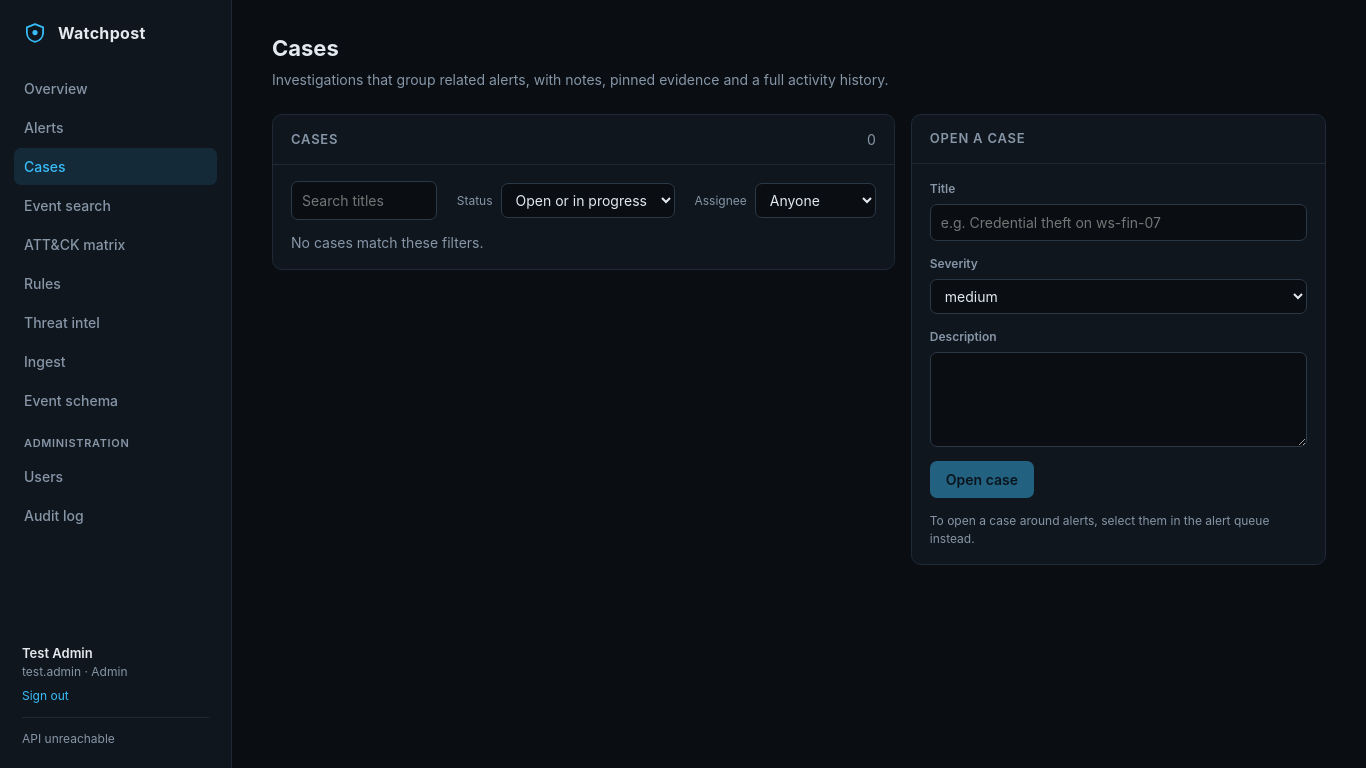
CasesPage › opens a new case and goes to it
Type "Phishing wave" into the field labelled "Title" at (1118, 222), box [930,204,1307,240]
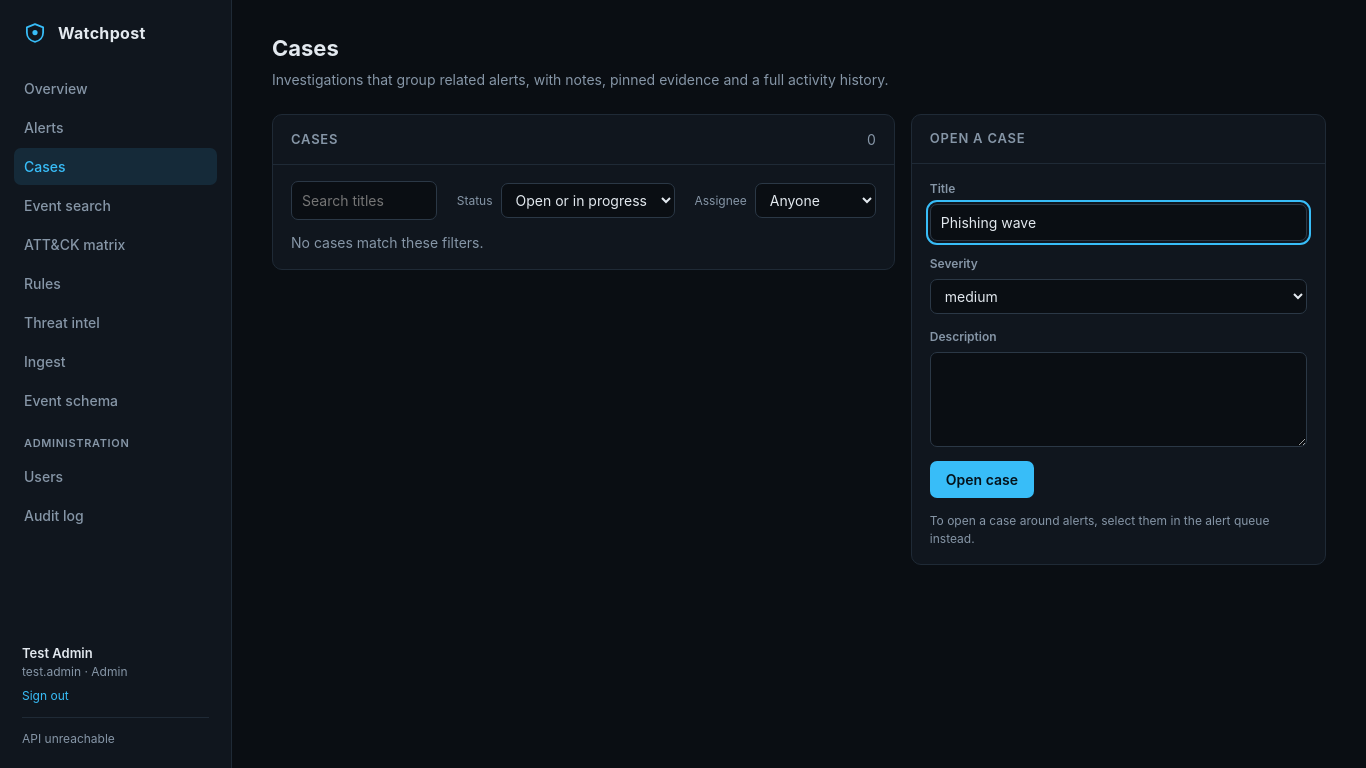
Select "high" in the dropdown labelled "Severity" at (1118, 296), box [930,278,1307,314]
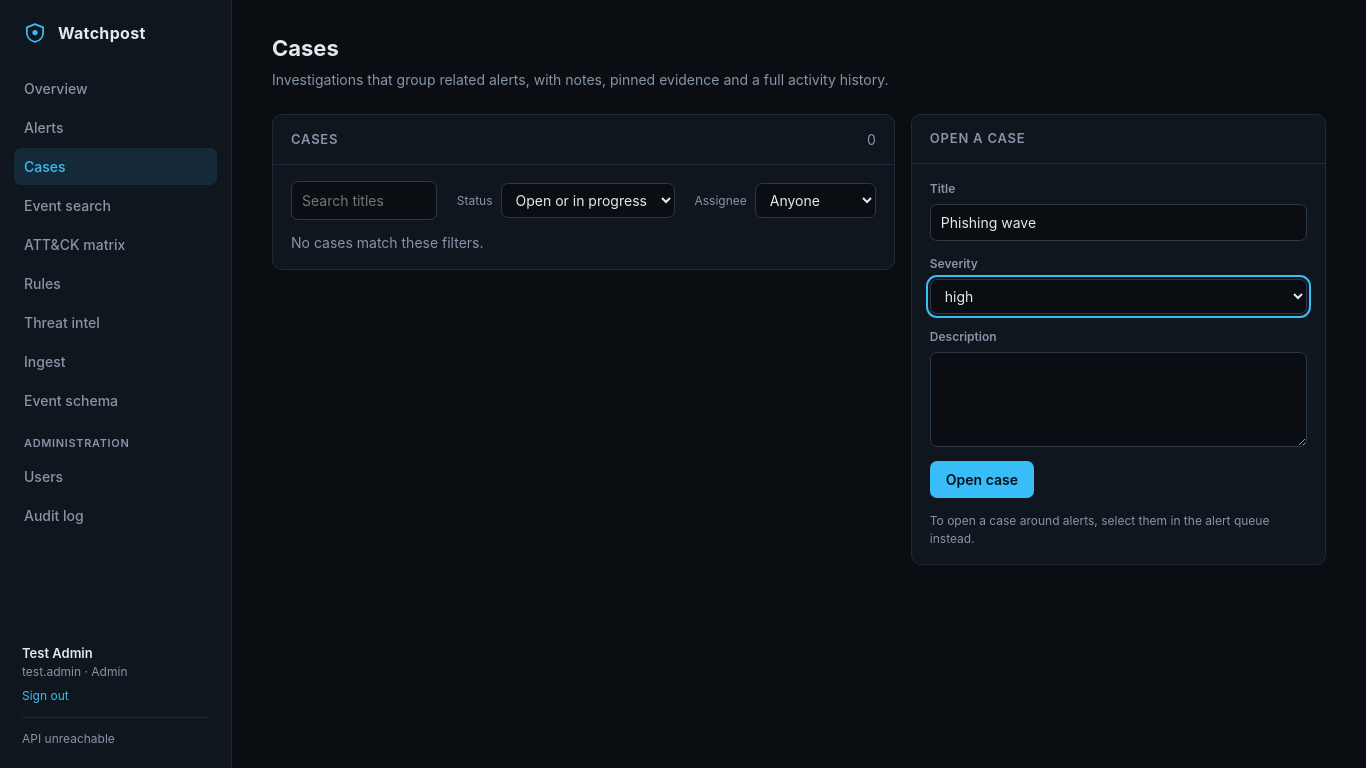
Type "Several invoices" into the text box labelled "Description" at (1118, 399), box [930,352,1307,447]
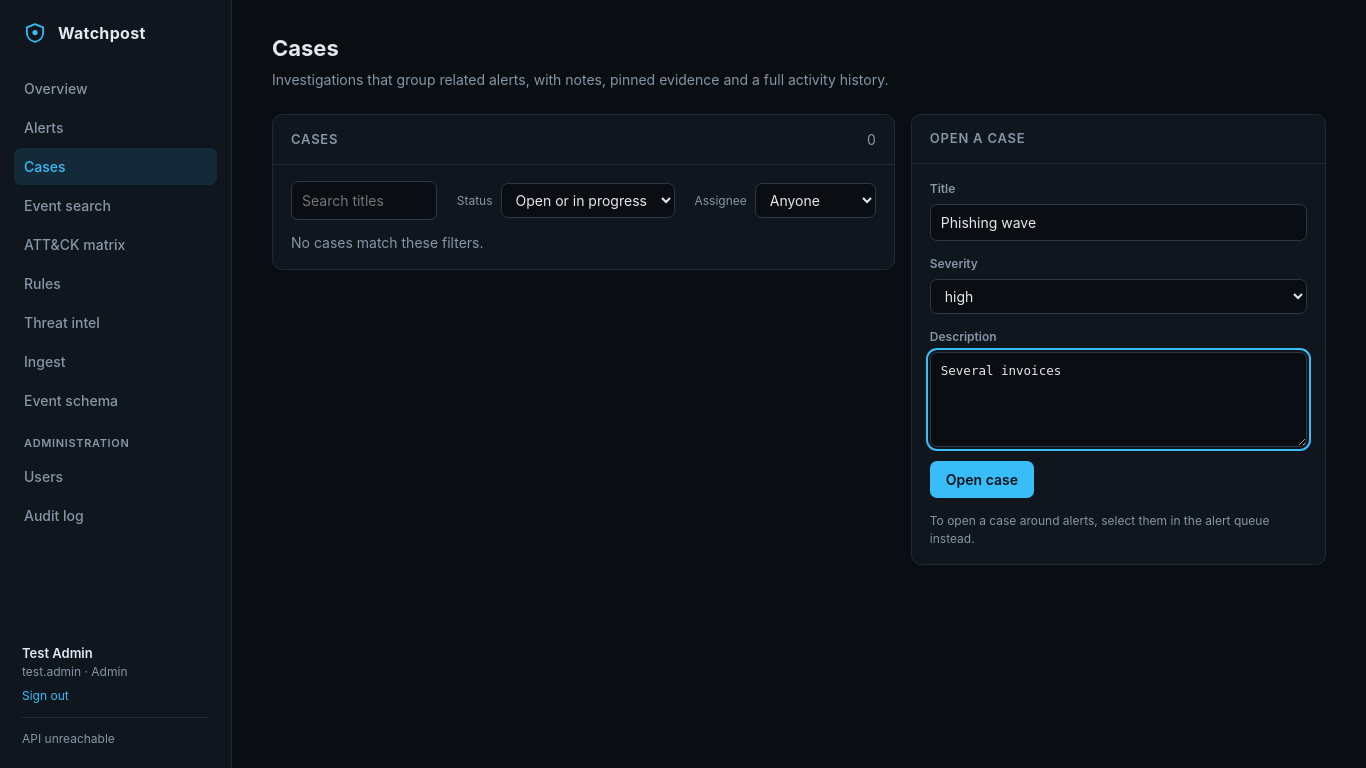
Click the button "Open case" at (982, 480), box [930,461,1034,498]
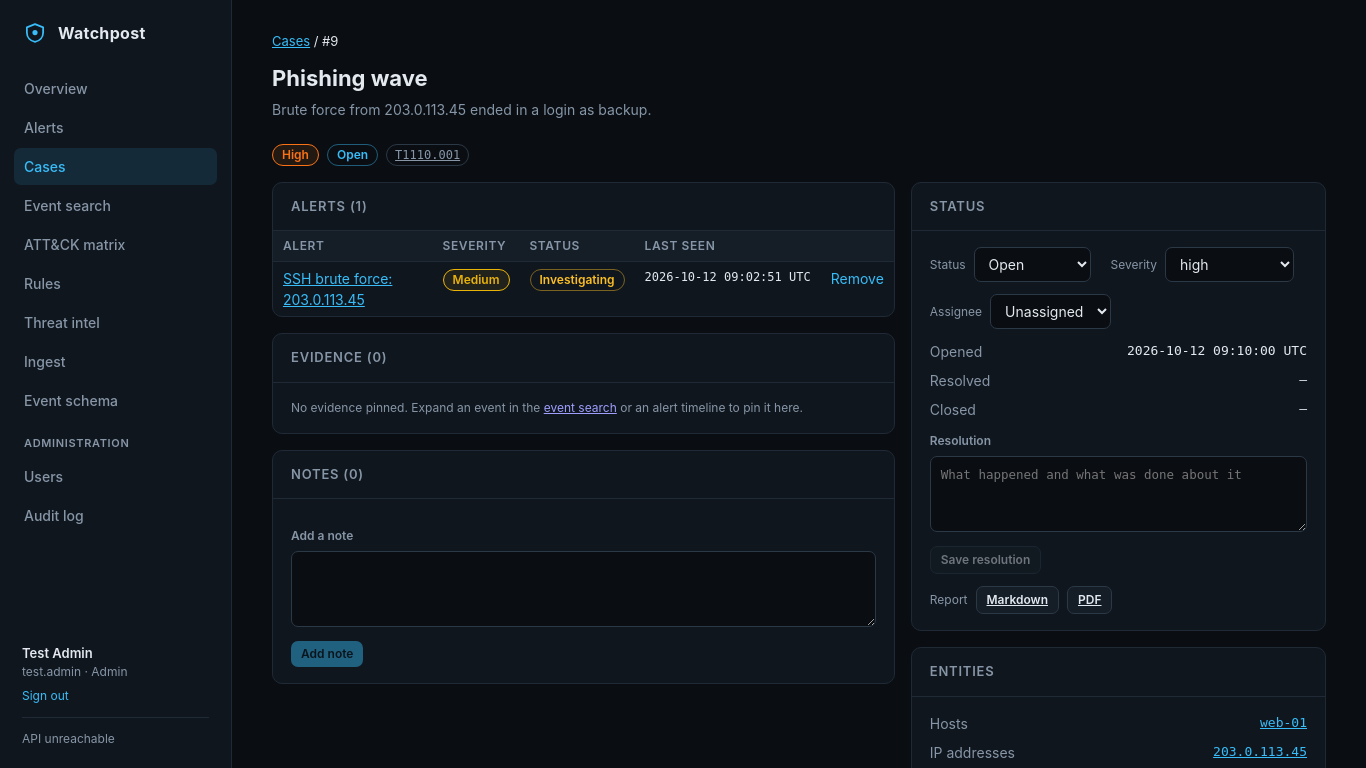
Now the heading "Phishing wave" is shown, box [272,64,428,90]
